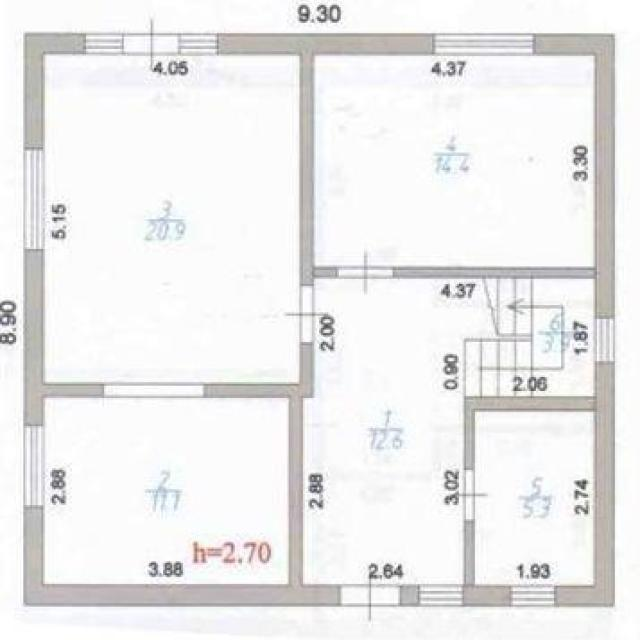Corridors: (305, 280, 463, 583)
Doors: (123, 15, 178, 73), (341, 570, 400, 622), (339, 245, 394, 296), (284, 285, 326, 343), (452, 470, 489, 521), (103, 383, 205, 398)
LBwalls: (22, 508, 341, 608), (535, 32, 616, 316), (555, 364, 616, 608), (22, 30, 86, 148), (219, 32, 433, 56), (23, 251, 44, 423), (465, 585, 510, 607), (401, 585, 419, 607)
Offices: (46, 57, 299, 383), (315, 56, 594, 266), (46, 400, 286, 583), (477, 412, 592, 584)
Stairs: (463, 279, 594, 396)
Walls: (205, 344, 315, 584), (463, 397, 595, 470), (299, 56, 340, 285), (394, 266, 595, 280), (44, 383, 103, 399), (464, 522, 476, 584)
Windows: (23, 149, 46, 250), (434, 33, 534, 54), (24, 424, 45, 508), (594, 317, 616, 364), (510, 585, 556, 607), (419, 585, 464, 607), (178, 34, 218, 55), (86, 33, 123, 54)
